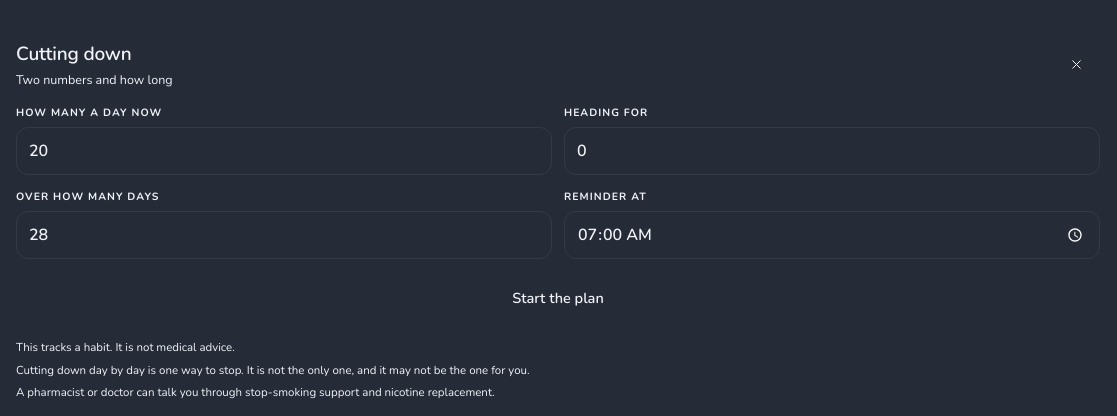
Test: setting the plan up › says in plain words why a plan it cannot build was refused, and keeps the sheet up
This screenshot has width=1117, height=416.
Replace the text in the number field labelled "How many a day now" with "5" at (284, 151), box x1=16 y1=127 x2=552 y2=175
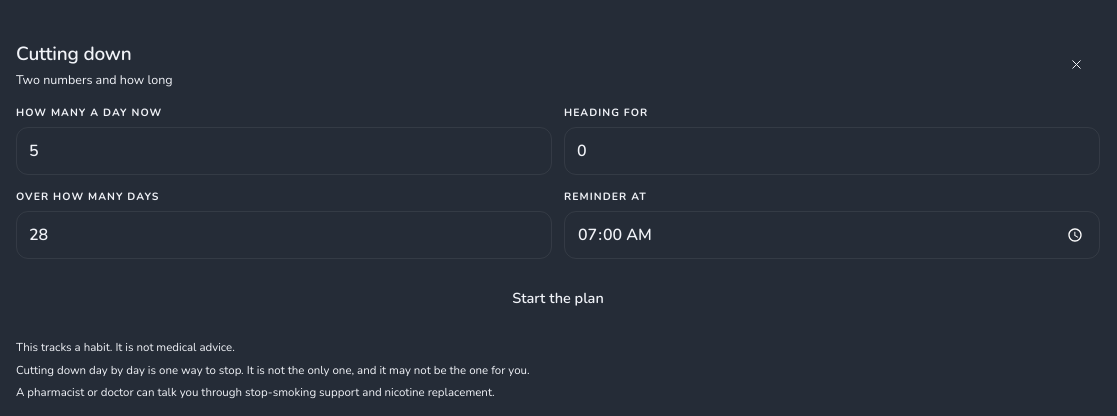
Replace the text in the number field labelled "Heading for" with "10" at (832, 151), box x1=564 y1=127 x2=1100 y2=175
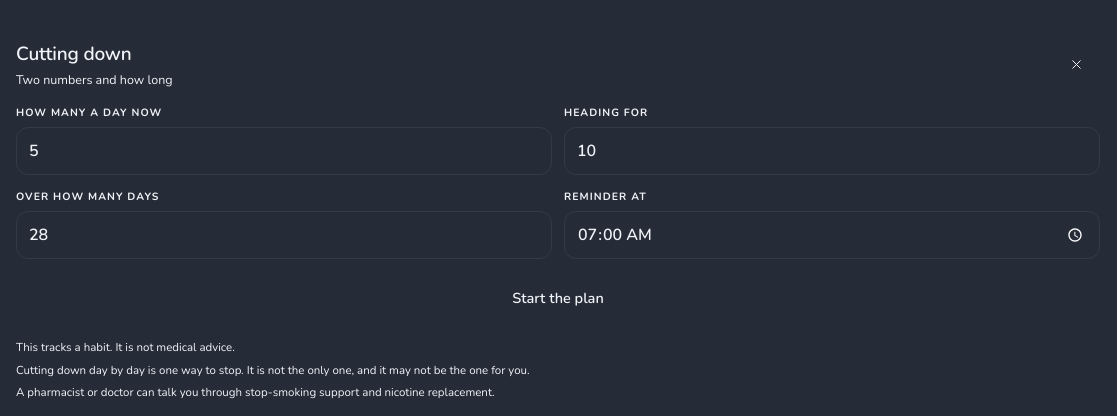
Click the button "Start the plan" at (558, 299), box x1=16 y1=275 x2=1100 y2=323
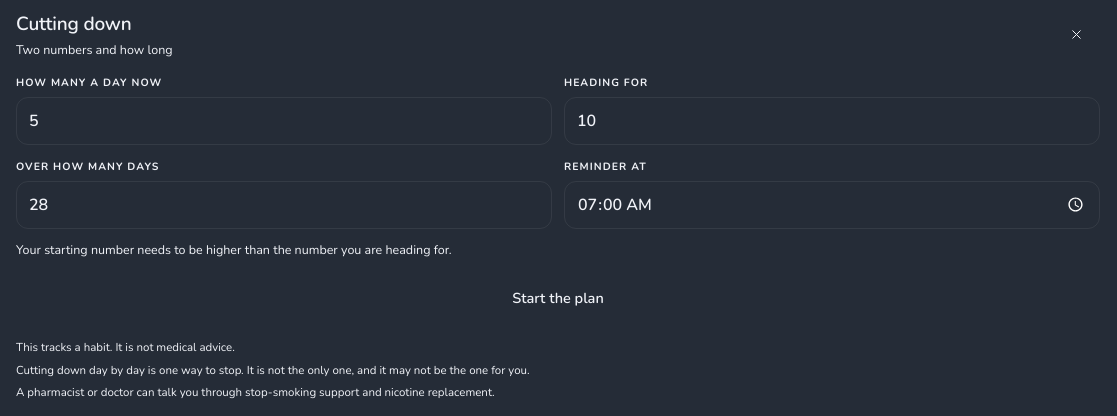
Expected: the message shows "higher than", x1=16 y1=241 x2=452 y2=258
